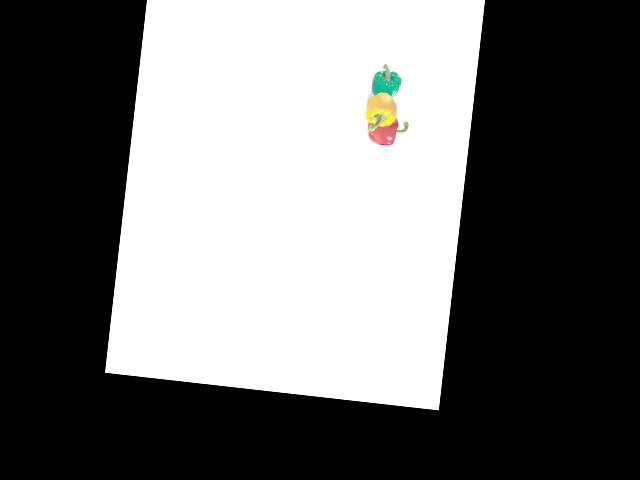bell_pepper: (367, 63, 405, 102)
